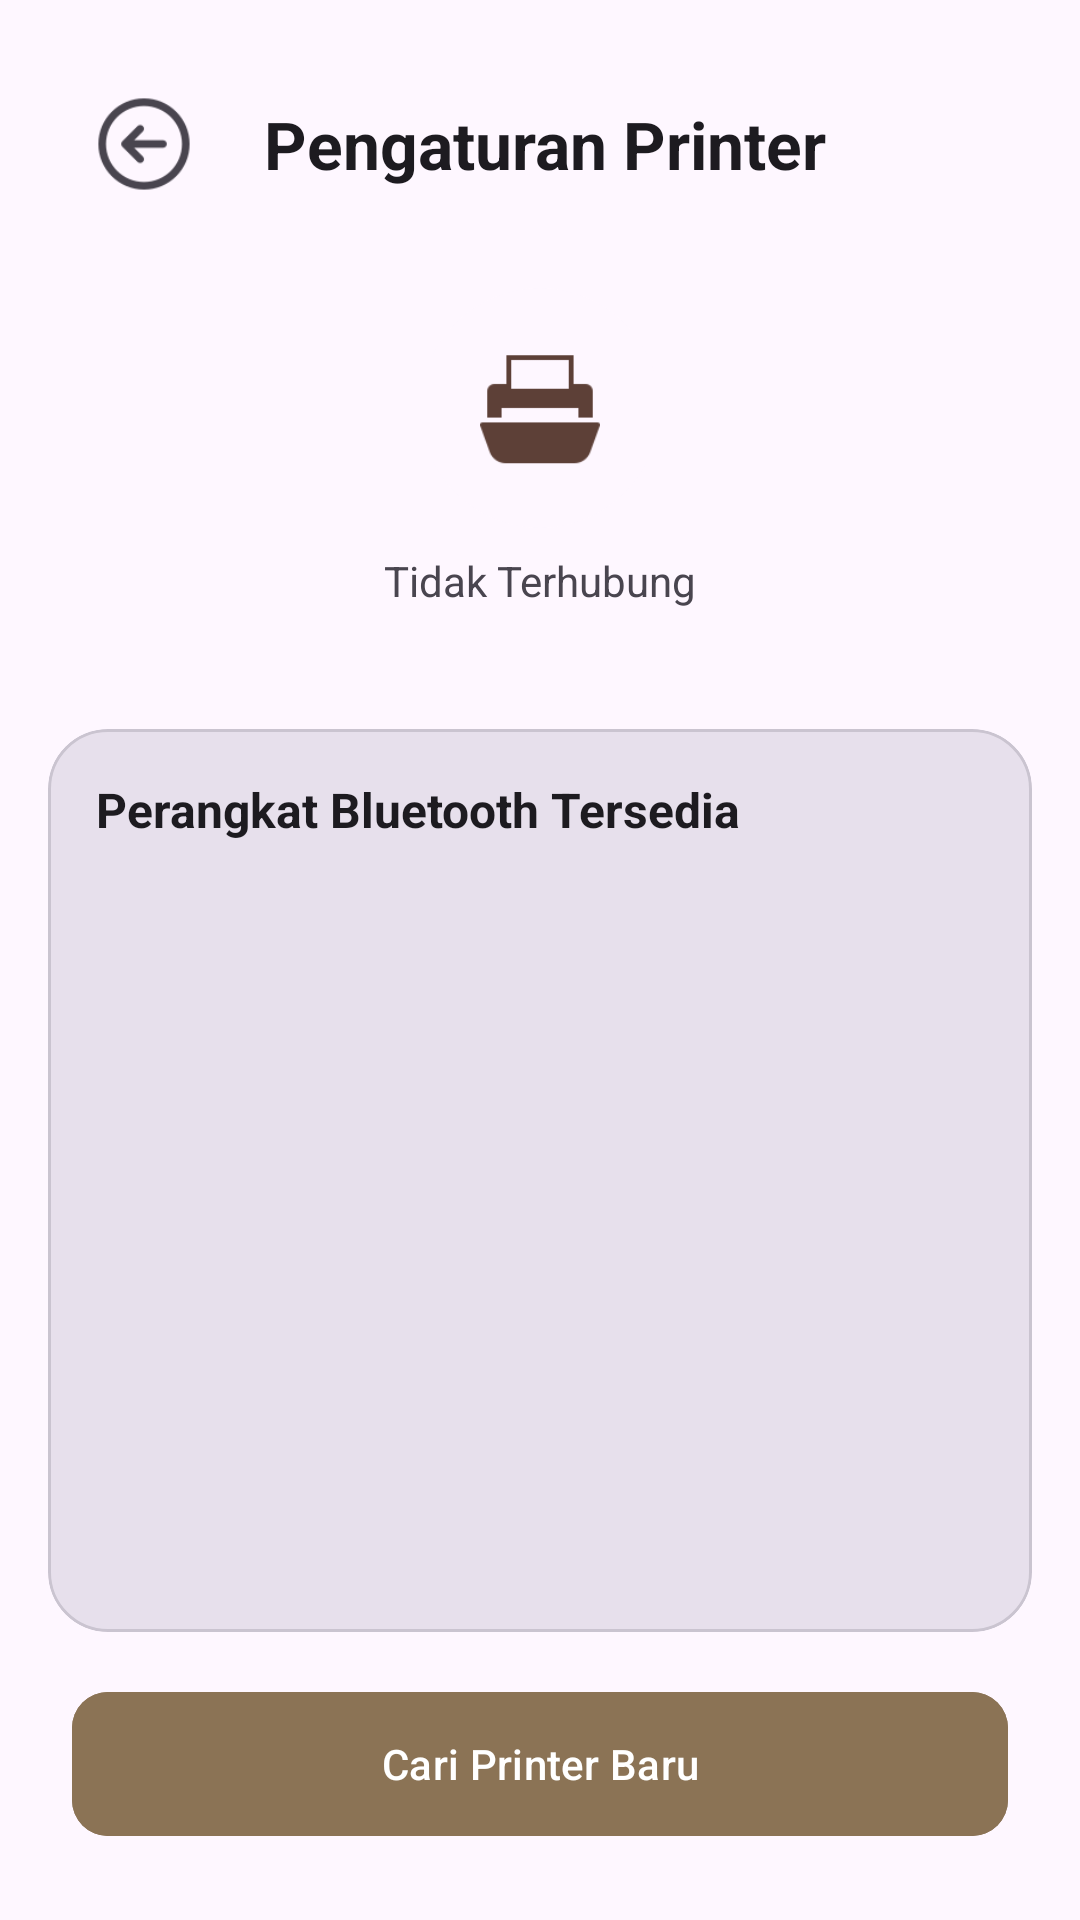

Locate icon controls on the screen. Image size 1080×1920, boxes as Rect(x1, y1, x2, y2).
back: Rect(98, 98, 190, 190)
